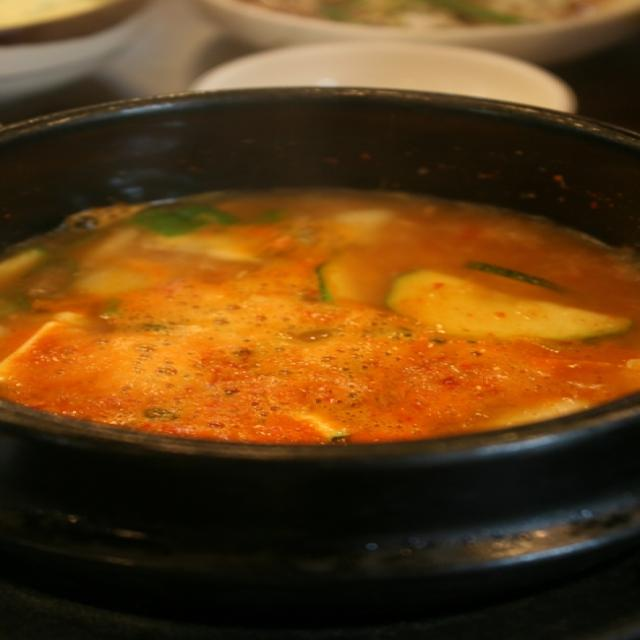汤锅炖物: (3, 37, 634, 618)
